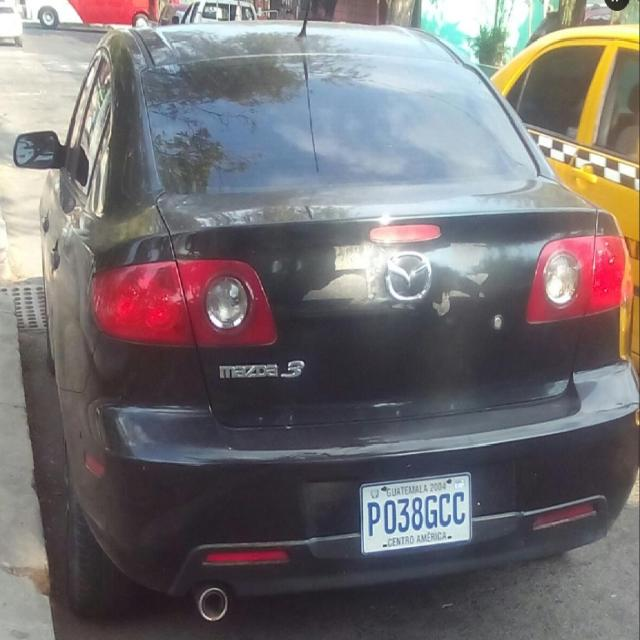Placas: (350, 465, 477, 557)
